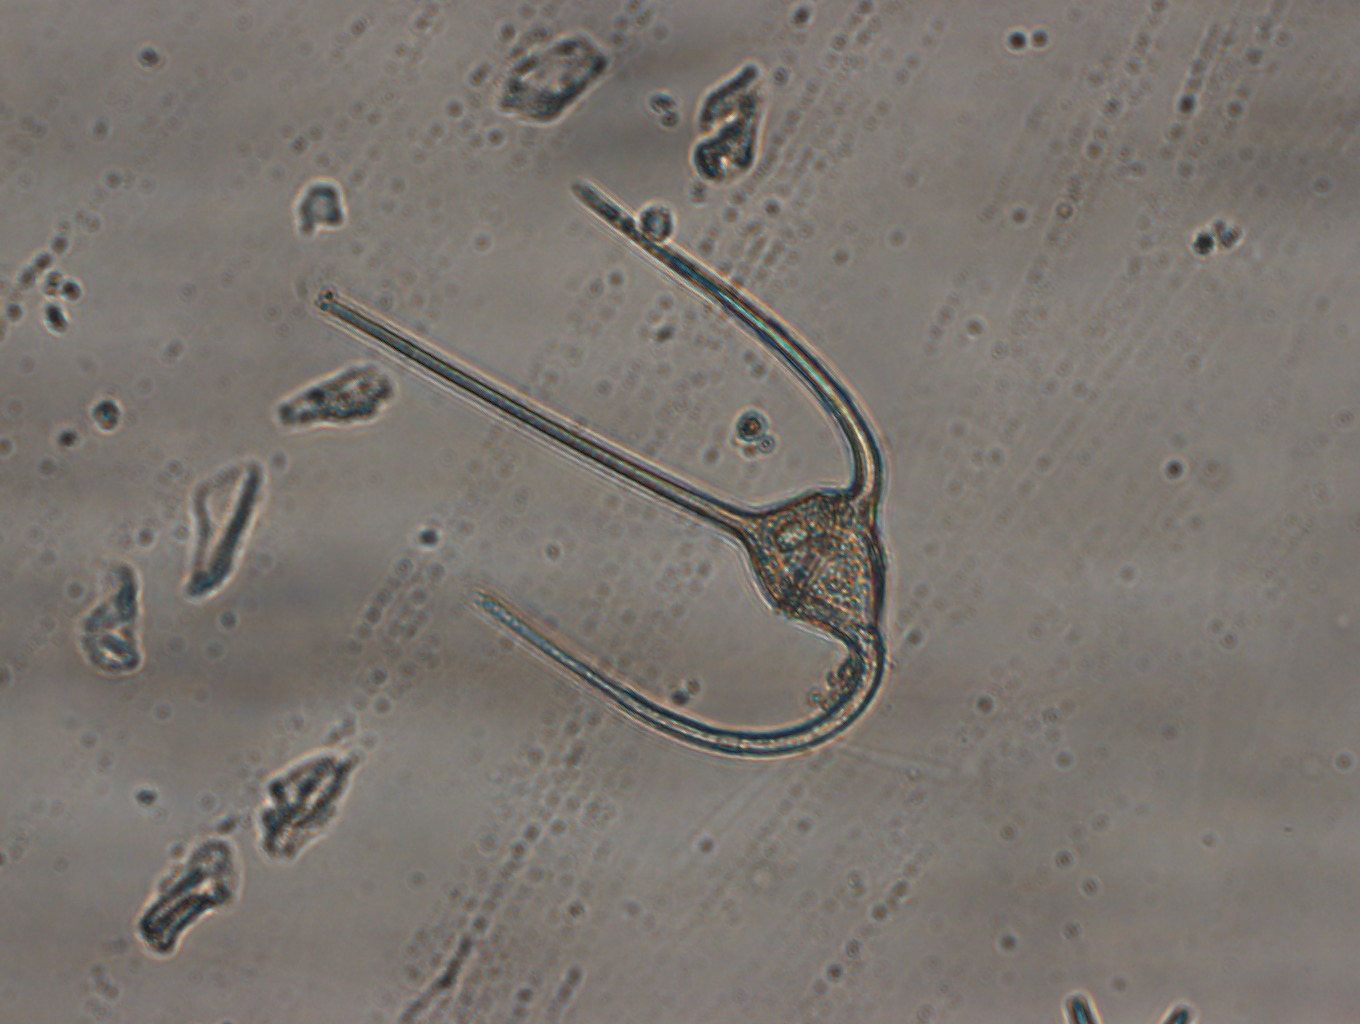ceratium trichoceros: (307, 172, 894, 763)
